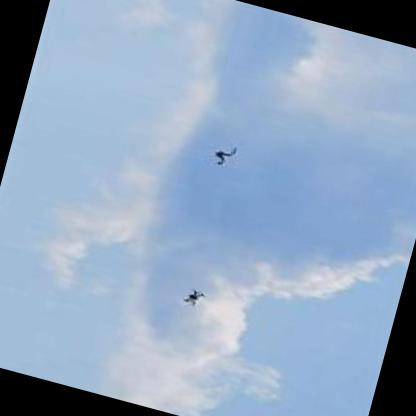drone: (171, 277, 216, 314)
